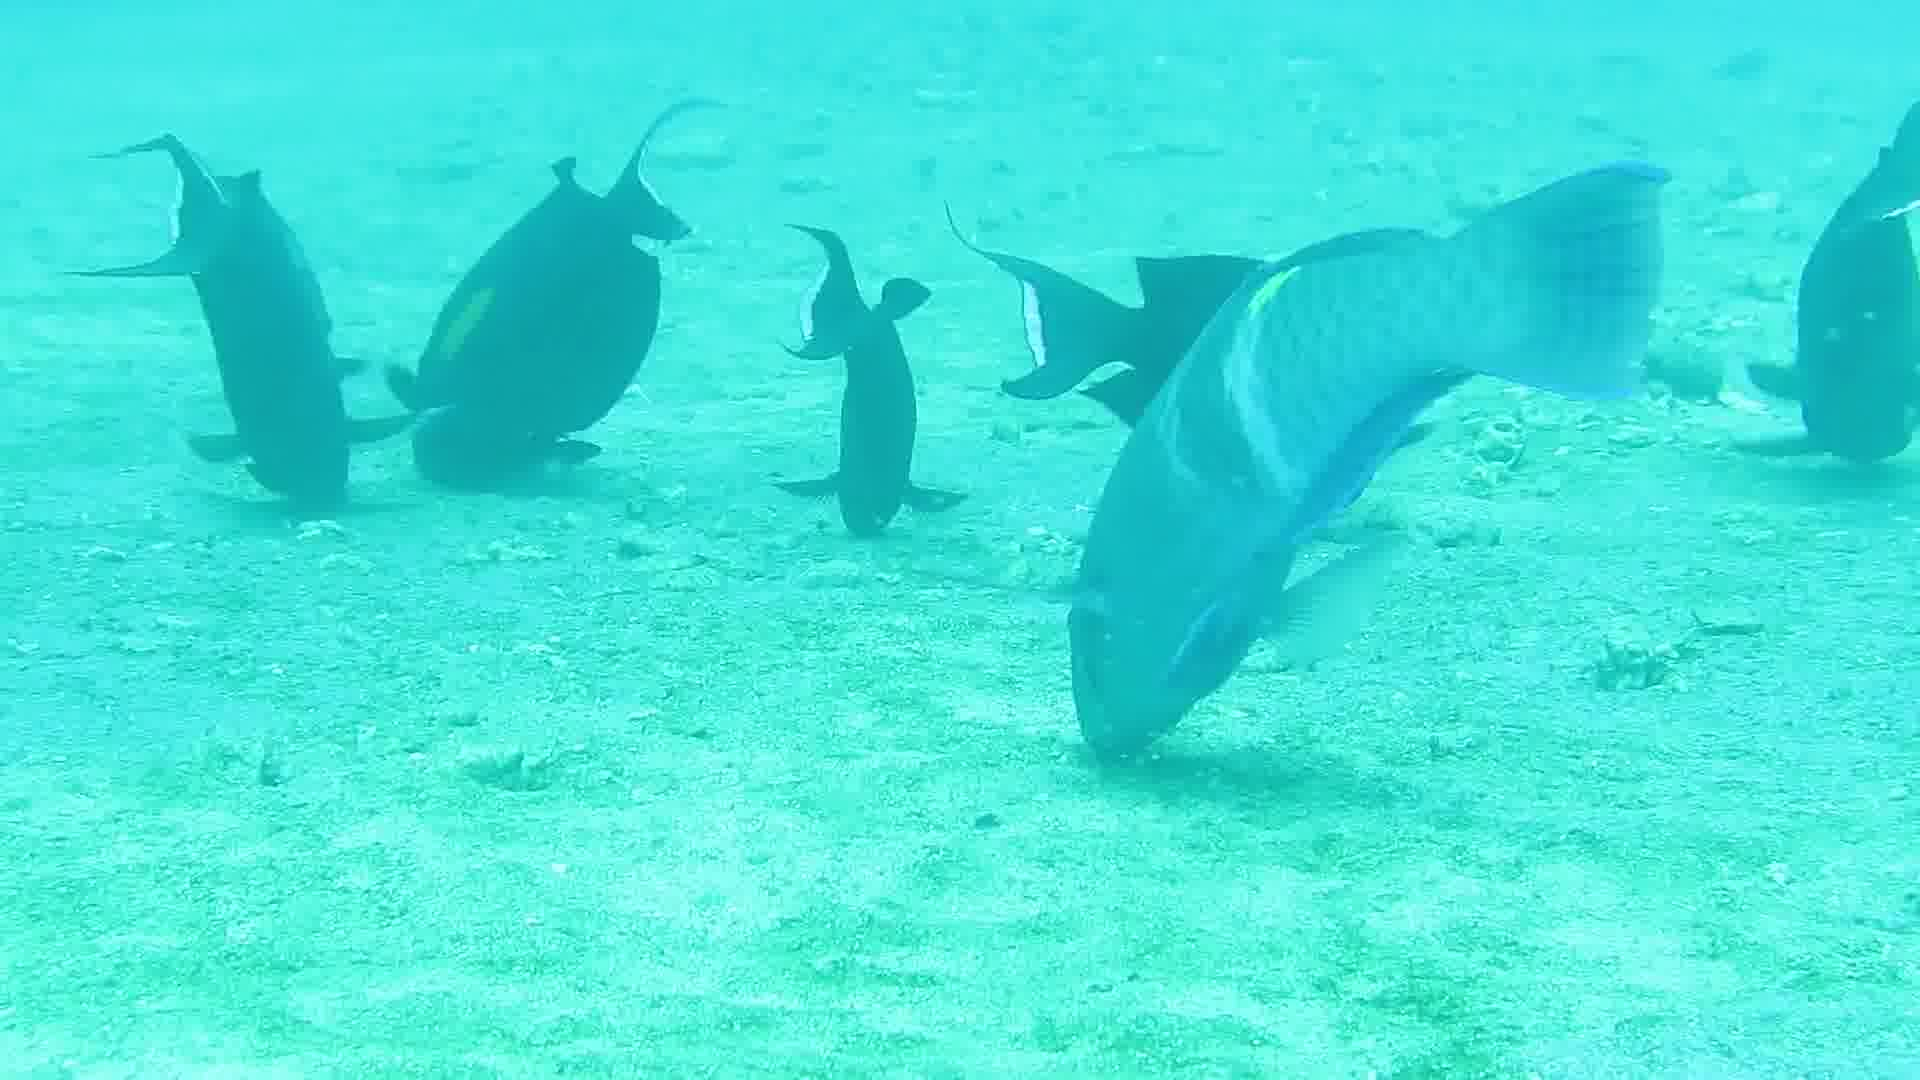Acanthurus olivaceus: (1052, 208, 1557, 794), (390, 82, 695, 531), (127, 98, 431, 547), (749, 194, 971, 618), (1780, 88, 1916, 521)
